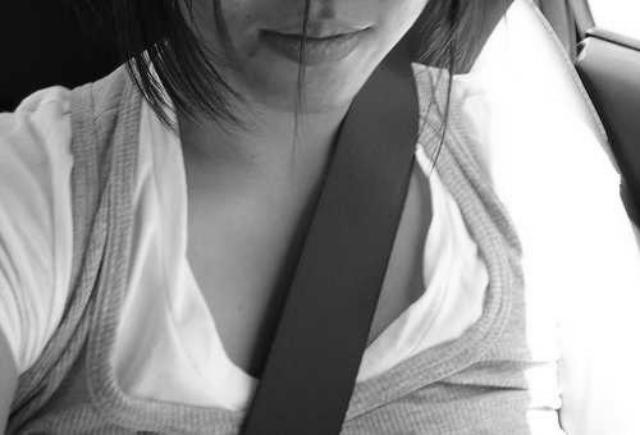Seatbelt: (240, 39, 428, 434)
